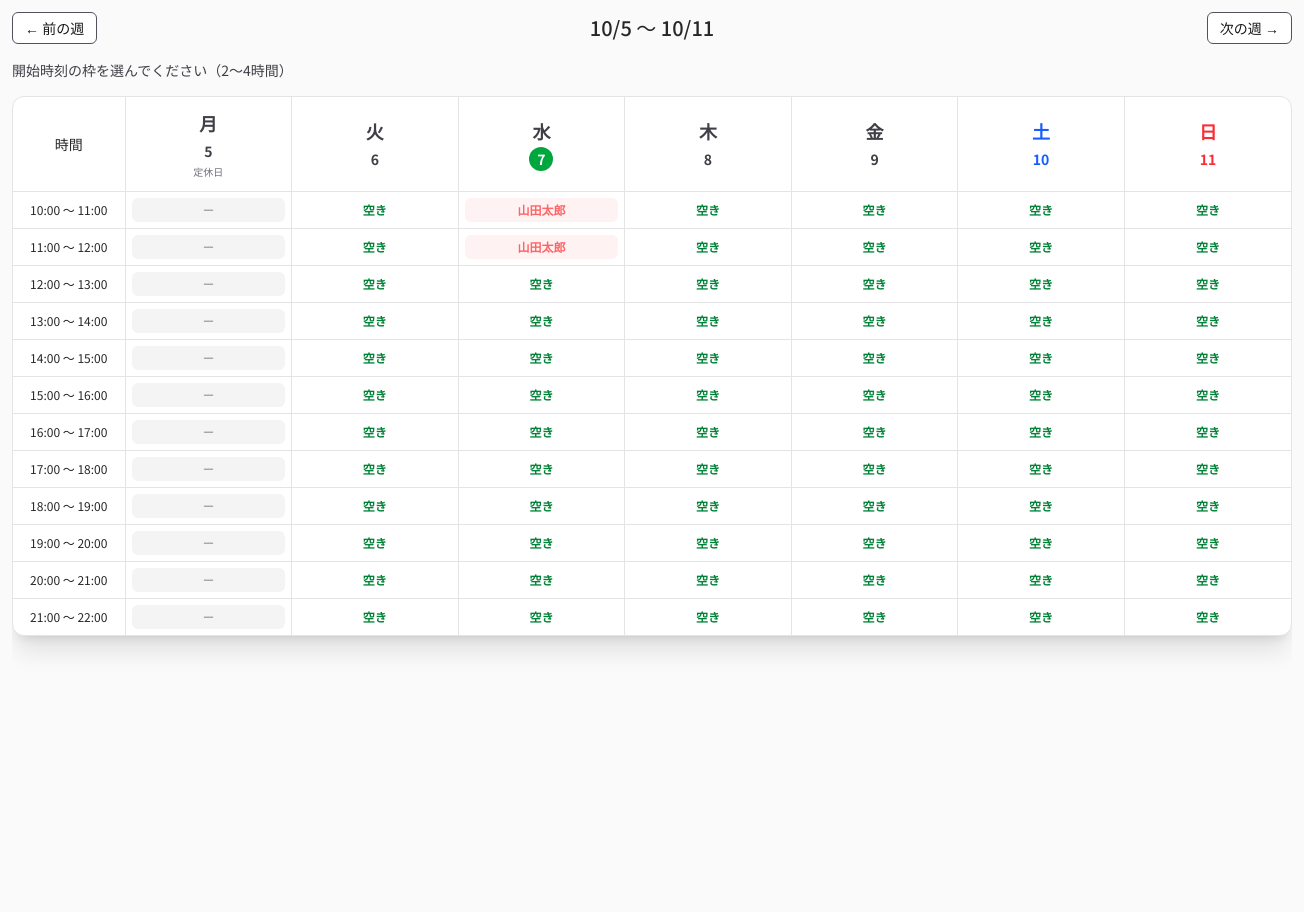
Test: 表示 › 前の週は、遡れる最初の日を含む週まで
Expected: the button with aria-label "10月7日（水） 10:00 〜 11:00 山田太郎 さんの予約" is shown, [465, 198, 618, 222]
What coordinates should you click on to do the following:
click the button "← 前の週"
I would click on:
 (55, 28)
Its box is [12, 12, 97, 44].
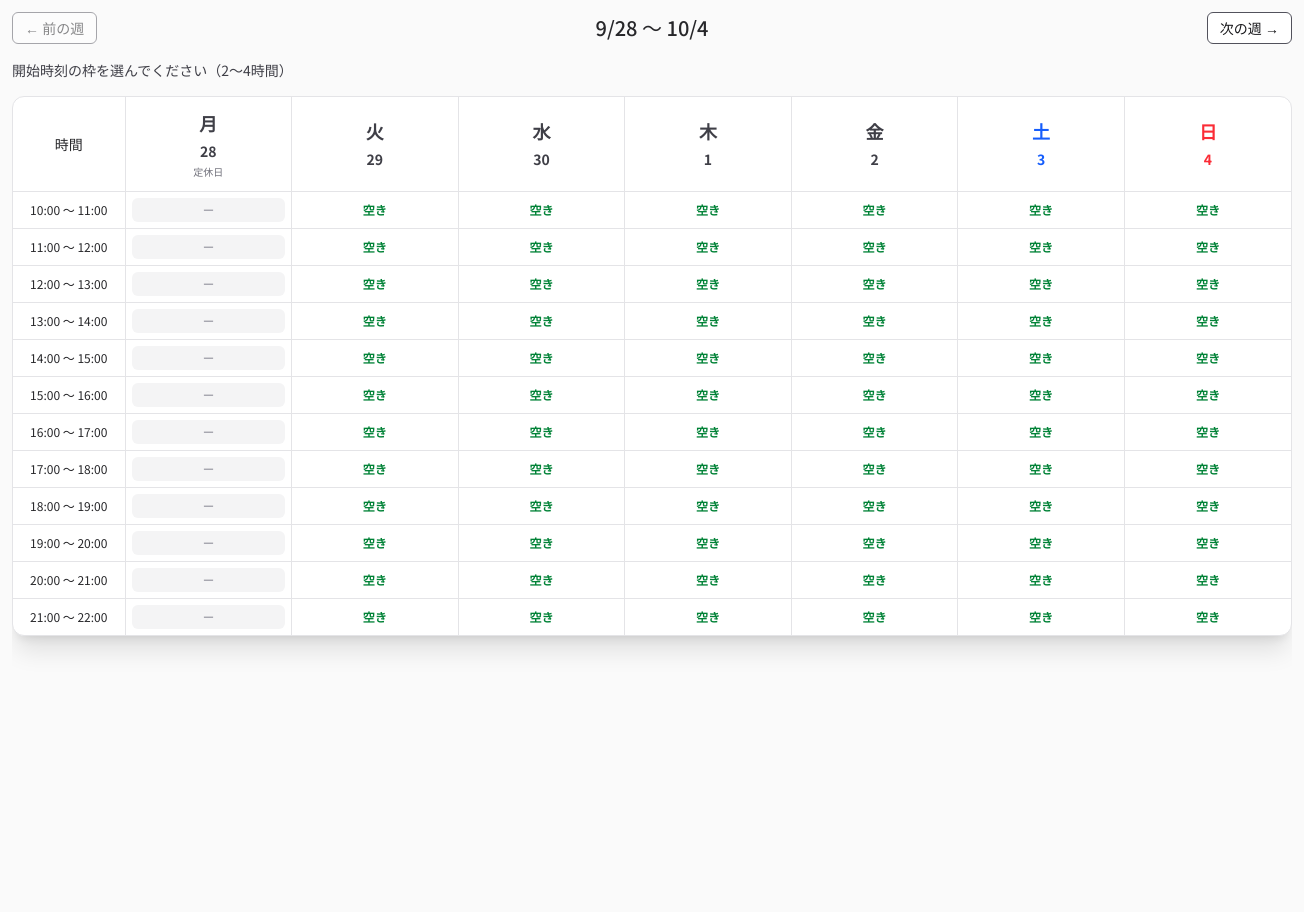
Expected: the text "9/28 〜 10/4" is shown, [596, 14, 708, 42]
Expected: the button "← 前の週" is disabled, [12, 12, 97, 44]
